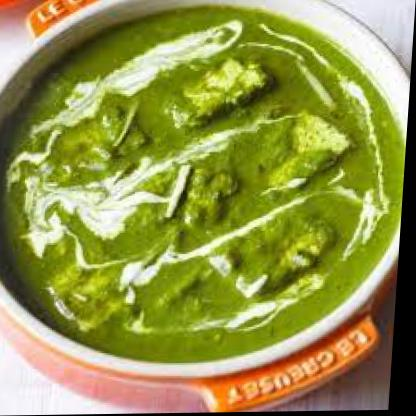palak_paneer: (0, 4, 416, 368)
